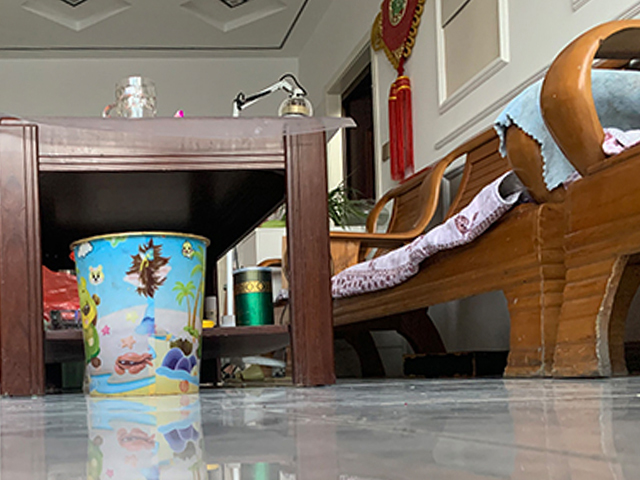sofa: (330, 78, 554, 380)
table: (1, 115, 336, 398)
trashcan: (69, 229, 213, 397)
